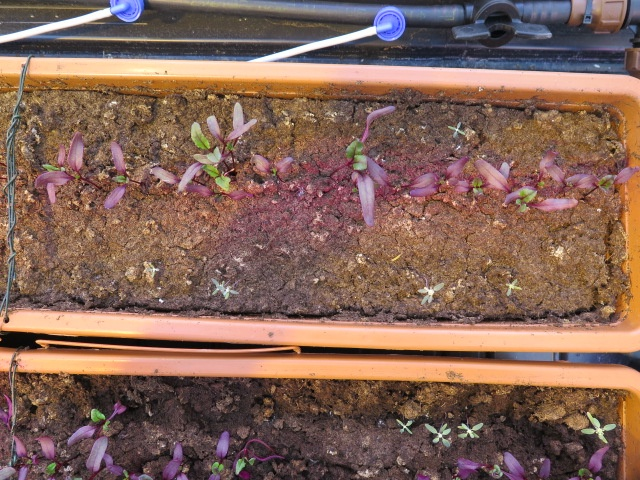crop: (179, 97, 258, 203), (474, 149, 585, 215), (348, 105, 398, 234), (197, 100, 256, 168), (34, 133, 87, 207), (539, 165, 636, 202), (68, 401, 134, 447), (1, 391, 32, 478), (152, 160, 211, 204), (409, 153, 475, 188), (101, 138, 131, 210), (42, 140, 67, 209), (212, 428, 244, 479), (36, 425, 66, 477), (410, 180, 477, 203), (83, 439, 118, 479), (250, 152, 298, 180), (583, 436, 615, 478), (496, 448, 531, 480), (162, 436, 188, 477), (445, 460, 496, 477), (535, 449, 556, 480)
weed: (578, 407, 620, 446), (409, 278, 446, 309), (421, 419, 453, 451), (455, 420, 486, 441), (445, 118, 470, 143), (501, 275, 528, 298), (393, 414, 416, 437)
